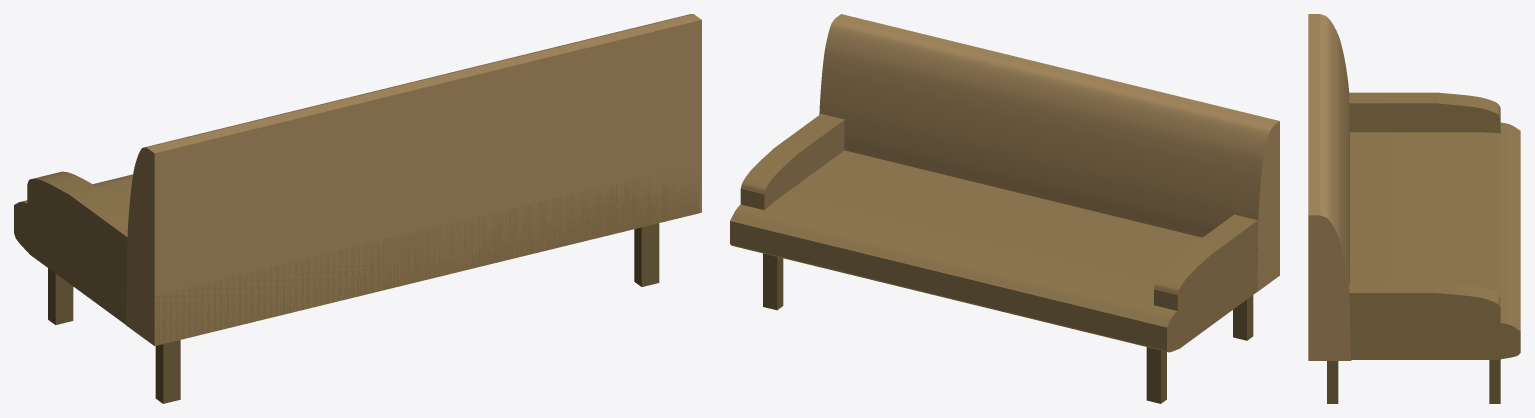
File: sofa_banquette__945390b4fd56.glb
The picture shows the model from 3 angles, left to right: view 1: azimuth 30°, elevation 25°; view 2: azimuth 150°, elevation 25°; view 3: azimuth 270°, elevation 25°; orthographic projection. The views are drawn at different scales.
Visible parts, largest first — view 1: back, seat, arm, rear_leg.003, rear_leg, front_leg; view 2: back, seat, arm, arm.003, front_leg, front_leg.003, rear_leg; view 3: seat, back, arm.003, arm, front_leg.003, rear_leg.003.
Part boxes in pixels (bbox=[...]): back: bbox=[126, 14, 701, 346]; seat: bbox=[14, 168, 699, 345]; arm: bbox=[27, 171, 128, 279]; rear_leg.003: bbox=[634, 223, 659, 286]; rear_leg: bbox=[155, 340, 180, 403]; front_leg: bbox=[48, 268, 73, 324]; back: bbox=[819, 14, 1279, 291]; seat: bbox=[730, 150, 1257, 352]; arm: bbox=[1154, 214, 1257, 313]; arm.003: bbox=[740, 113, 844, 209]; front_leg: bbox=[1146, 347, 1166, 403]; front_leg.003: bbox=[763, 253, 783, 310]; rear_leg: bbox=[1233, 295, 1253, 340]; seat: bbox=[1350, 122, 1520, 359]; back: bbox=[1308, 14, 1351, 360]; arm.003: bbox=[1349, 282, 1500, 325]; arm: bbox=[1349, 92, 1500, 133]; front_leg.003: bbox=[1489, 359, 1500, 403]; rear_leg.003: bbox=[1327, 361, 1338, 403].
Bounding box in the file's own units: 1.8 × 0.832 × 0.802.
